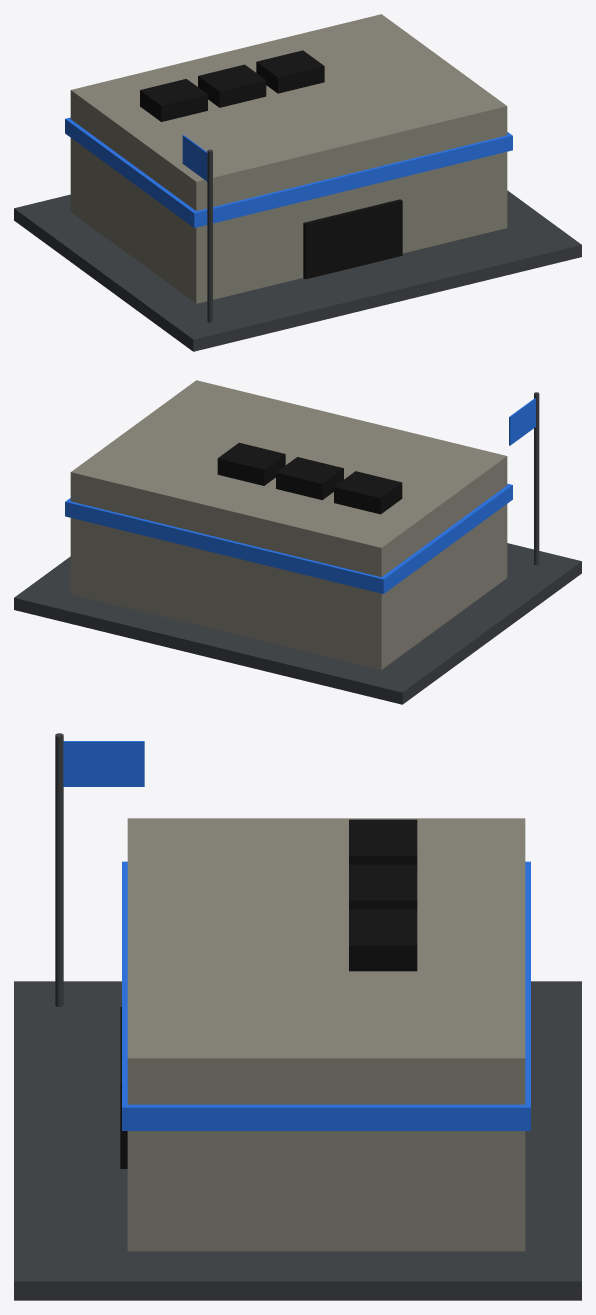
Rendered from field_hospital.glb.
3 renders of one model, top to bottom at view 1: azimuth 30°, elevation 25°; view 2: azimuth 150°, elevation 25°; view 3: azimuth 270°, elevation 25°, orthographic. The views are drawn at different scales.
Parts seen in each view (by area): view 1: main, base, team_band, door, vent_0, vent_1, vent_2, flagpole, flag; view 2: main, base, team_band, vent_0, vent_2, vent_1, flagpole, flag; view 3: main, base, team_band, vent_2, flag, vent_0, vent_1, flagpole.
Part boxes in pixels (x1,y1,x2,y2): main: (70,14,507,303); base: (14,190,581,351); team_band: (65,117,512,227); door: (303,199,402,279); vent_0: (140,79,207,121); vent_1: (198,64,266,107); vent_2: (256,50,324,93); flagpole: (207,149,212,322); flag: (182,135,207,181); main: (70,380,507,669); base: (14,543,581,704); team_band: (65,483,512,593); vent_0: (334,471,402,514); vent_2: (217,442,285,485); vent_1: (276,457,343,500); flagpole: (534,392,539,565); flag: (509,398,535,445); main: (127,818,525,1251); base: (14,981,581,1300); team_band: (122,861,530,1130); vent_2: (349,909,417,971); flag: (63,741,144,786); vent_0: (349,819,417,864); vent_1: (349,864,417,909); flagpole: (55,733,63,1006).
Bounding box in the file's own units: 10 × 4.5 × 8.
